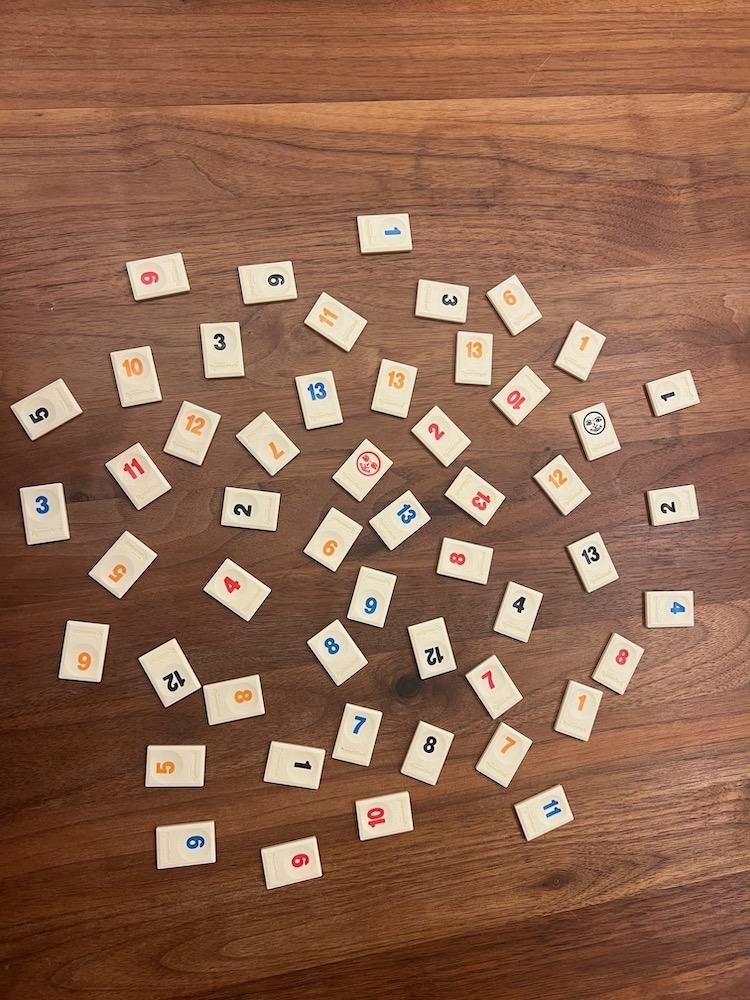black_1: (266, 742, 326, 789), (646, 369, 699, 416)
black_12: (139, 639, 201, 707), (408, 617, 457, 680)
black_13: (566, 533, 619, 592)
black_2: (222, 486, 278, 531), (646, 484, 699, 525)
black_3: (199, 324, 243, 377), (417, 279, 468, 322)
black_4: (494, 582, 543, 643)
black_5: (12, 379, 82, 439)
black_6: (239, 262, 297, 305)
black_8: (402, 721, 453, 785)
blue_1: (358, 213, 412, 254)
blue_11: (514, 785, 574, 840)
blue_13: (371, 490, 430, 549), (295, 372, 344, 430)
blue_3: (21, 482, 69, 544)
blue_4: (646, 590, 695, 627)
blue_6: (157, 820, 217, 869), (349, 566, 396, 627)
blue_7: (333, 703, 383, 766)
blue_8: (309, 619, 367, 686)
joker: (332, 439, 393, 500), (572, 402, 621, 461)
orange_1: (555, 320, 605, 381), (555, 680, 604, 742)
orange_10: (111, 346, 162, 408)
orange_11: (305, 293, 367, 352)
orange_12: (164, 400, 221, 465), (533, 455, 590, 516)
orange_13: (371, 359, 418, 418), (455, 332, 494, 385)
orange_5: (90, 531, 156, 598), (146, 744, 203, 787)
orange_6: (486, 275, 541, 336), (61, 621, 109, 682)
orange_7: (236, 412, 299, 475), (477, 723, 531, 787)
orange_8: (204, 674, 266, 725)
orange_9: (305, 508, 361, 572)
red_10: (492, 365, 549, 424), (356, 791, 414, 840)
red_11: (105, 443, 170, 510)
red_13: (445, 467, 506, 525)
red_2: (412, 406, 471, 467)
red_4: (203, 559, 271, 621)
red_6: (262, 836, 322, 889)
red_7: (467, 654, 521, 719)
red_8: (592, 633, 645, 693), (436, 537, 493, 584)
red_9: (127, 254, 189, 301)
